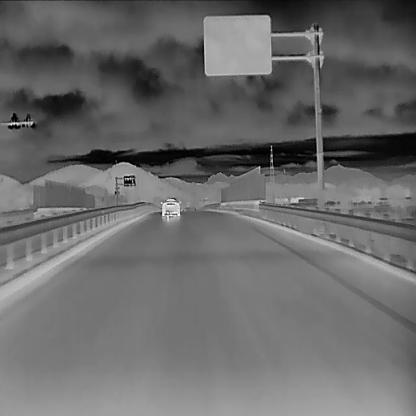car: (159, 195, 181, 215)
